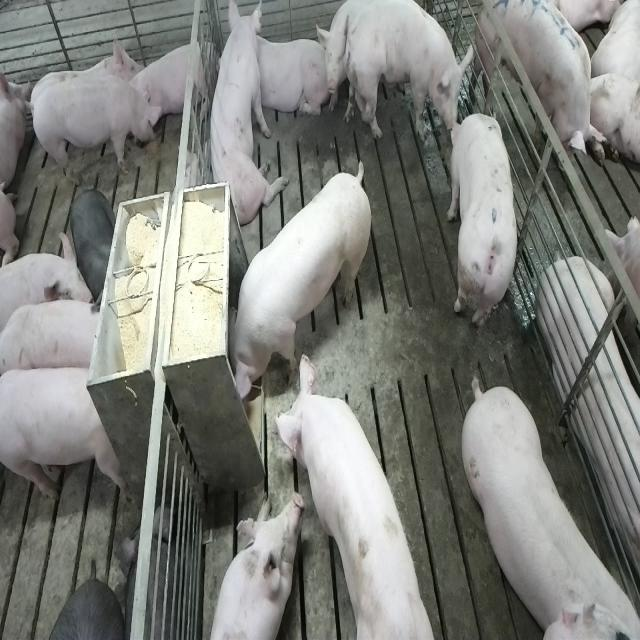Feeding: (219, 161, 369, 406)
Sitting: (203, 4, 284, 228)
Standing: (456, 373, 634, 634), (479, 0, 610, 191), (1, 368, 131, 510), (445, 108, 519, 336), (28, 78, 158, 184), (4, 232, 96, 351), (0, 299, 106, 372)
Sternal_lying: (539, 229, 640, 597), (203, 492, 302, 640), (131, 36, 211, 134), (252, 31, 330, 122)
